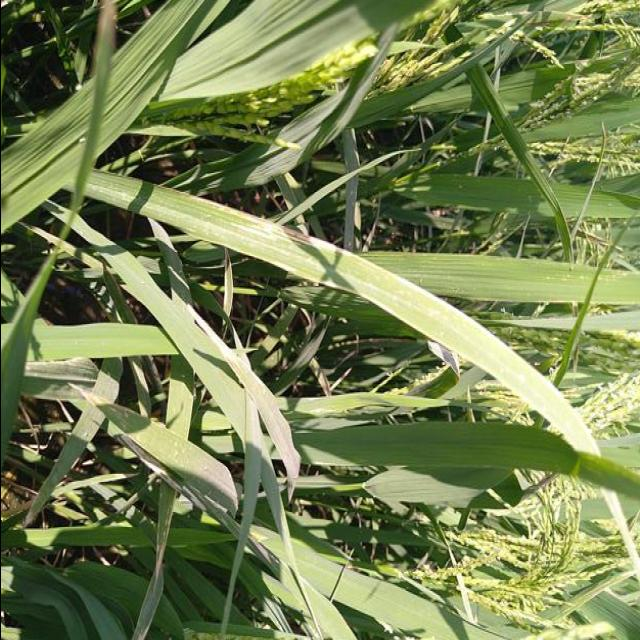Leaf Streak: (71, 384, 236, 508), (185, 196, 352, 259), (151, 479, 174, 584)
